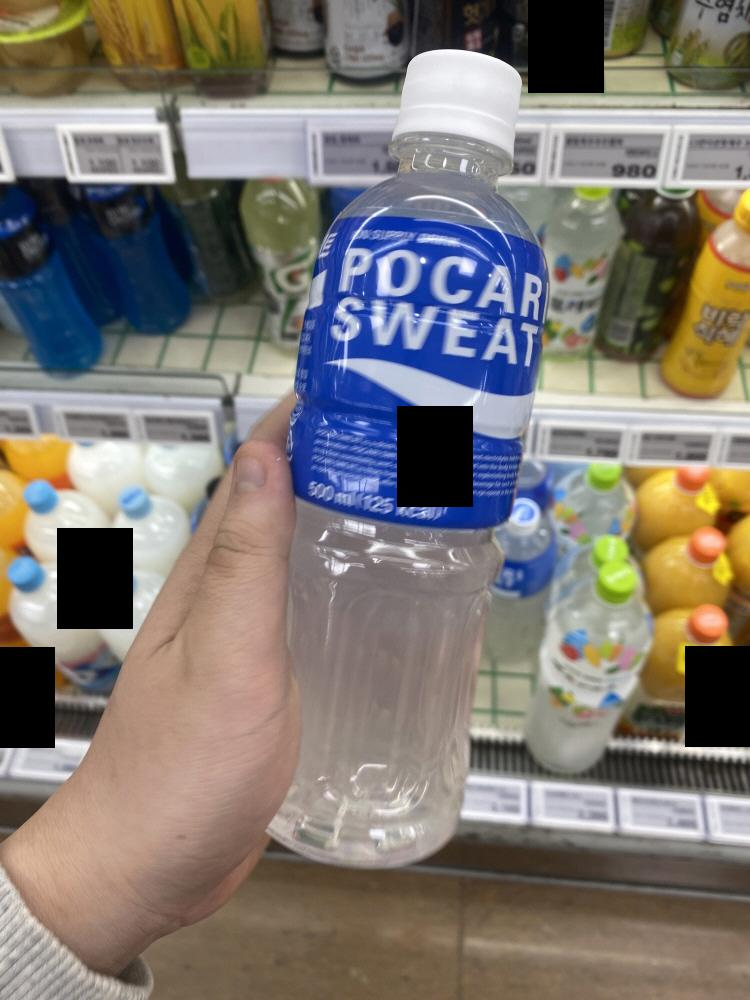pocarisweat: (271, 40, 565, 890)
